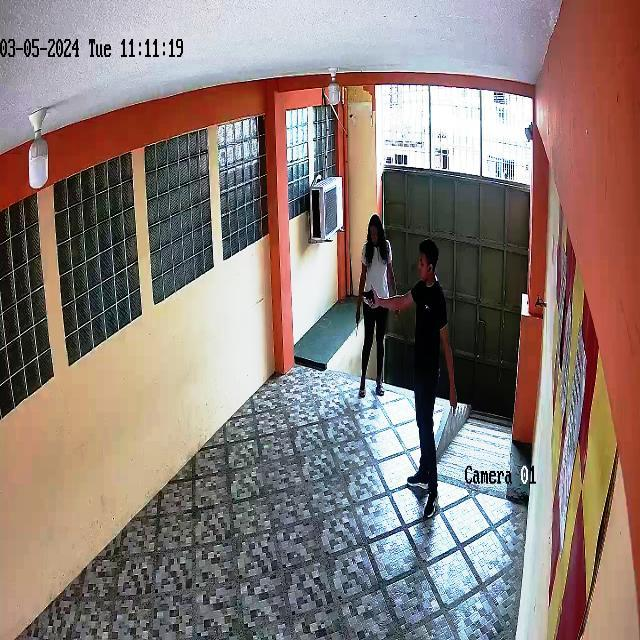Gun: (352, 286, 390, 316)
